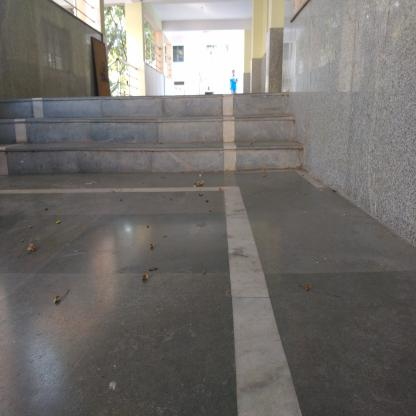stairs: (11, 93, 288, 180)
